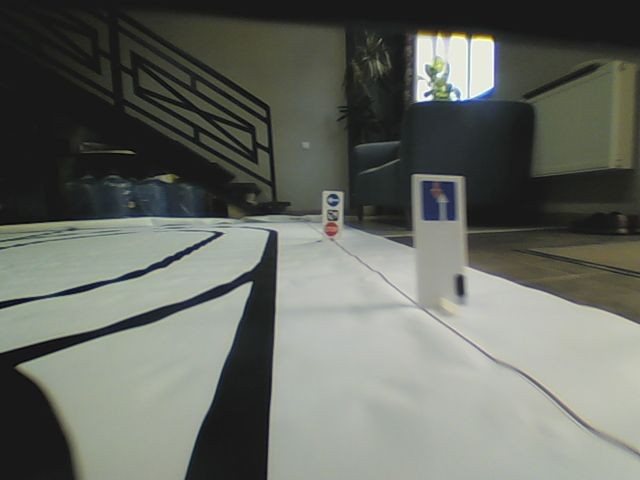priority_movement: (417, 178, 459, 223)
